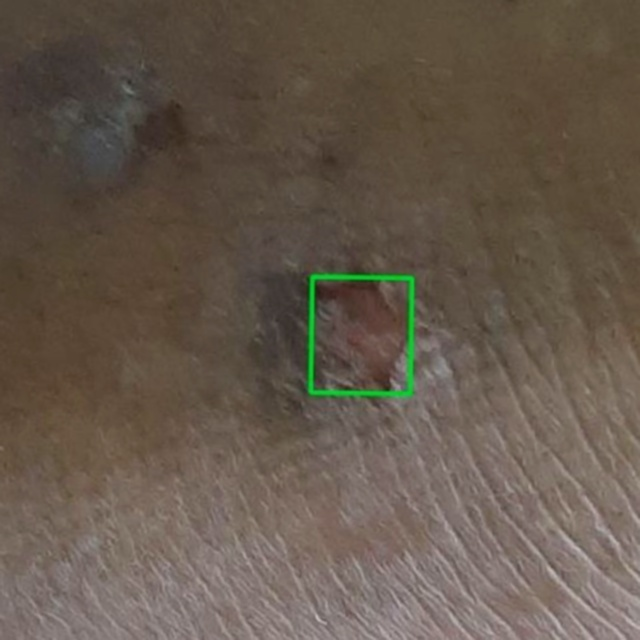Eczema: (310, 276, 411, 394)
